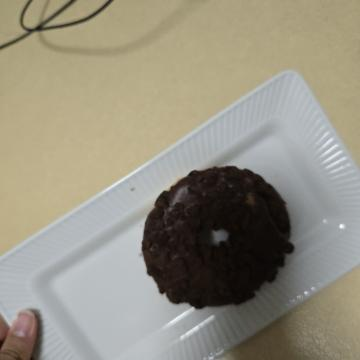doughnut: (152, 59, 321, 232)
